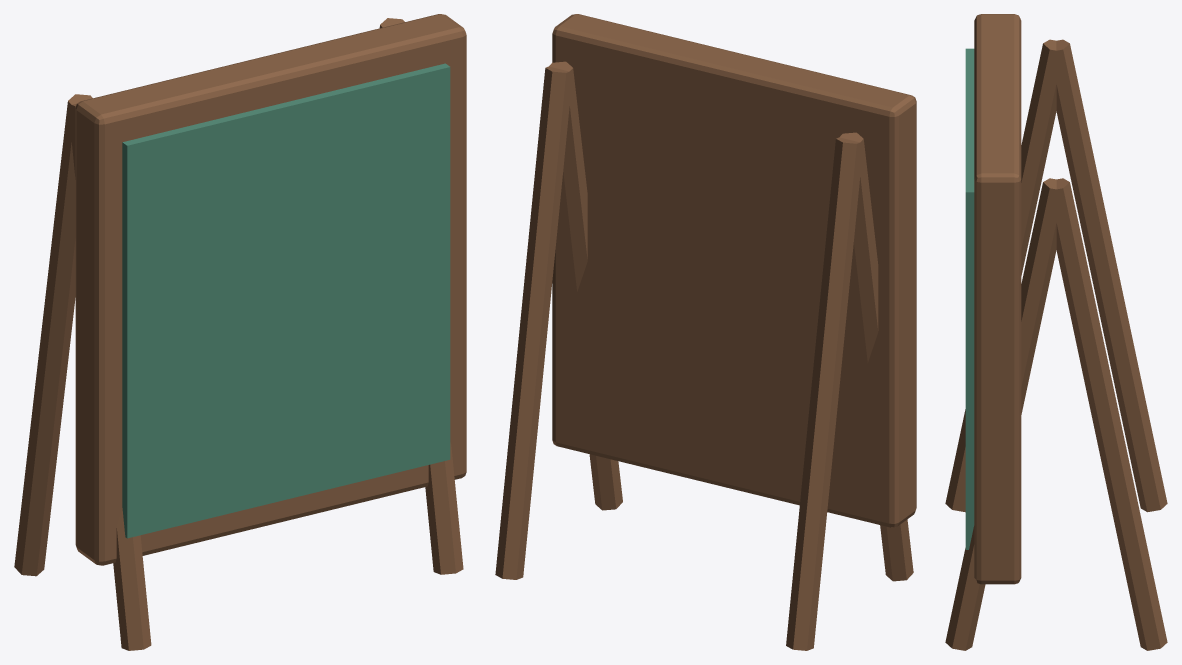
Rendered from tpe5_menu_board.glb.
3 renders of one model, left to right at view 1: azimuth 30°, elevation 25°; view 2: azimuth 150°, elevation 25°; view 3: azimuth 270°, elevation 25°, orthographic. The views are drawn at different scales.
Parts seen in each view (by area): view 1: tpe5_menu_board__tpe5-street-jade, tpe5_menu_board__tpe5-street-walnut; view 2: tpe5_menu_board__tpe5-street-walnut; view 3: tpe5_menu_board__tpe5-street-walnut, tpe5_menu_board__tpe5-street-jade.
Boxes of the visible parts, x1=… form: tpe5_menu_board__tpe5-street-jade: x1=122, y1=63, x2=450, y2=538; tpe5_menu_board__tpe5-street-walnut: x1=14, y1=14, x2=466, y2=650; tpe5_menu_board__tpe5-street-walnut: x1=495, y1=14, x2=916, y2=650; tpe5_menu_board__tpe5-street-walnut: x1=945, y1=14, x2=1167, y2=650; tpe5_menu_board__tpe5-street-jade: x1=965, y1=48, x2=974, y2=549.
Size of the model in its own units: 1 by 1.37 by 0.5687.
